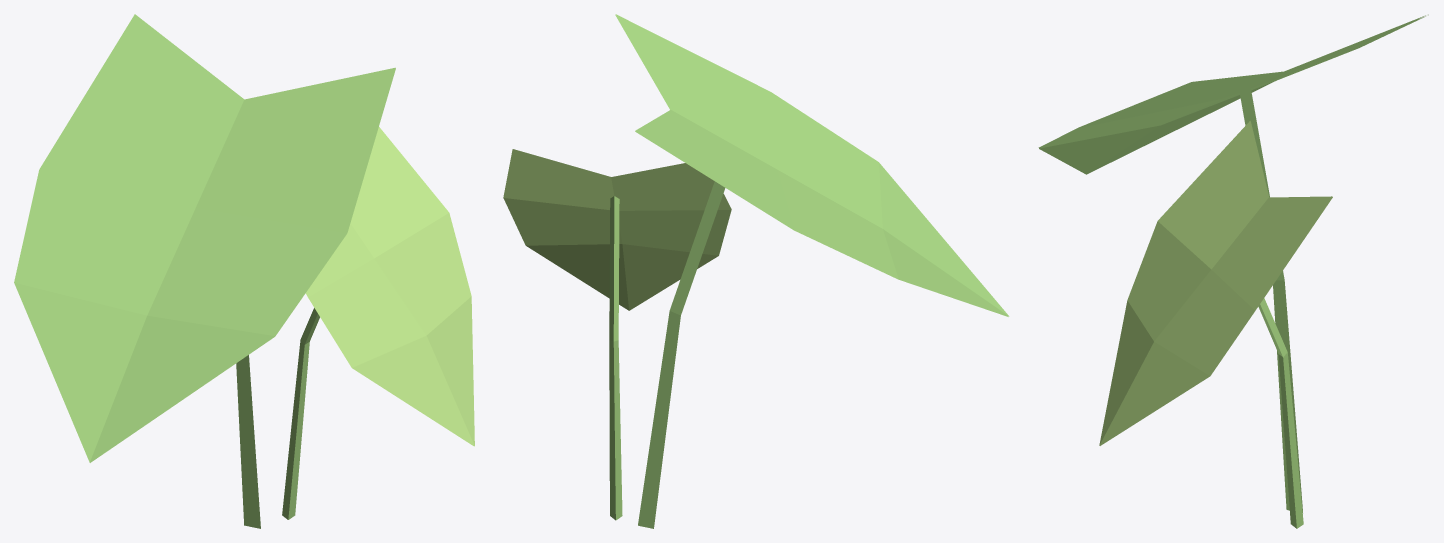
The model's file is Plant_c_TwoS_02.fbx.
The picture shows the model from 3 angles, left to right: view 1: azimuth 30°, elevation 25°; view 2: azimuth 150°, elevation 25°; view 3: azimuth 270°, elevation 25°; orthographic projection. The views are drawn at different scales.
Parts seen in each view (by area): view 1: Plant_c_TwoS_02; view 2: Plant_c_TwoS_02; view 3: Plant_c_TwoS_02.
Part boxes in pixels (x1=…): Plant_c_TwoS_02: x1=14, y1=14, x2=474, y2=528; Plant_c_TwoS_02: x1=503, y1=14, x2=1009, y2=528; Plant_c_TwoS_02: x1=1038, y1=14, x2=1428, y2=528.
Size of the model in its own units: 0.561 by 0.5727 by 0.432.
